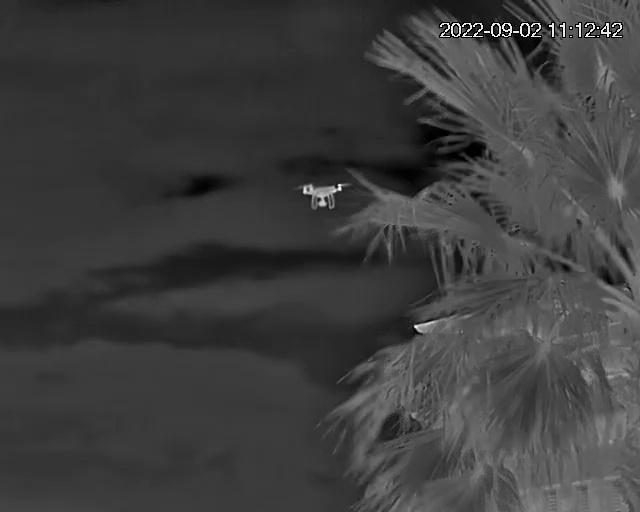DJI-Phantom: (296, 182, 350, 210)
